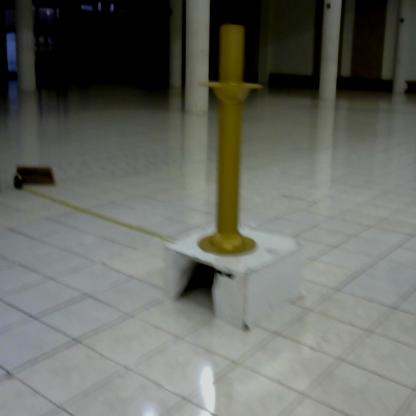pole: (196, 19, 269, 269)
